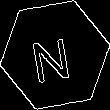N_N: (32, 27, 78, 83)
